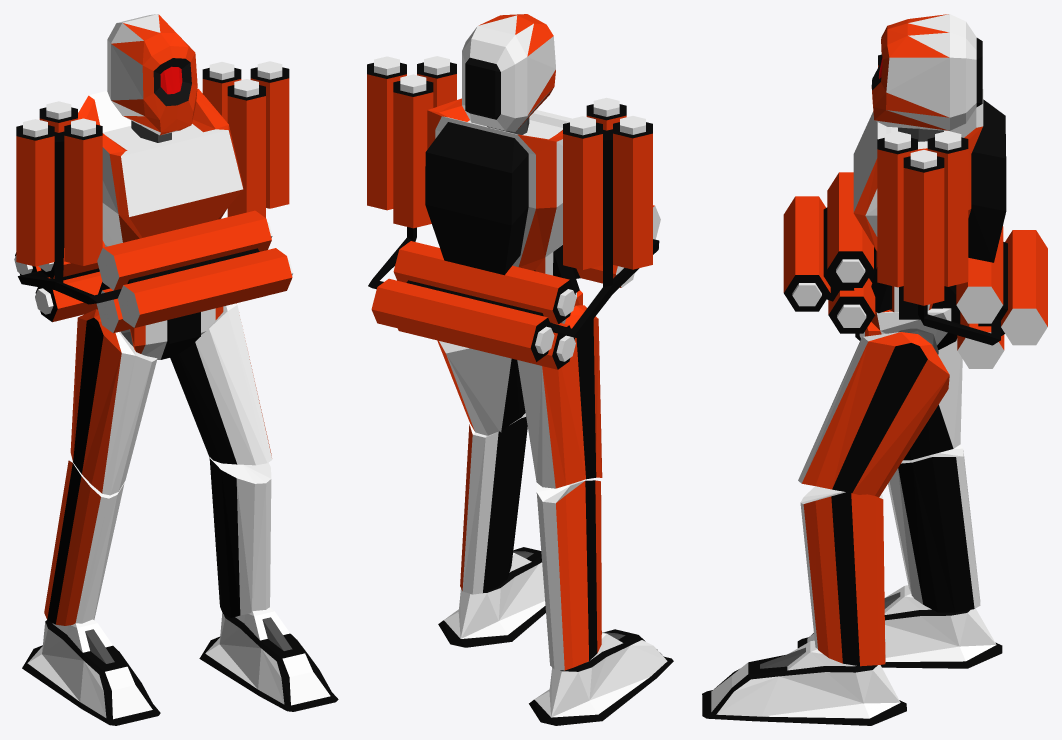
File: robots_000008.obj
3 renders of one model, left to right at view 1: azimuth 30°, elevation 25°; view 2: azimuth 150°, elevation 25°; view 3: azimuth 270°, elevation 25°, orthographic. The views are drawn at different scales.
Visible parts, largest first — view 1: Cylinder.004_Cylinder.006, Chest_plate_Cube.004, R_Thigh_Cube.005, R_Thigh.002_Cube.027, Head_base.002_Cube.030, R_Shin.002_Cube.029, R_Foot_Cube, R_Foot.002_Cube.035, R_Shin_Cube.007, Pelvis_Cube.006; view 2: Cylinder.004_Cylinder.006, Chest_plate_Cube.004, R_Shin_Cube.007, R_Thigh_Cube.005, Head_base.002_Cube.030, R_Shin.002_Cube.029, R_Foot_Cube, R_Foot.002_Cube.035, R_Thigh.002_Cube.027; view 3: Cylinder.004_Cylinder.006, R_Thigh.002_Cube.027, R_Shin.002_Cube.029, R_Foot.002_Cube.035, R_Shin_Cube.007, Head_base.002_Cube.030, Chest_plate_Cube.004, R_Foot_Cube, R_Thigh_Cube.005, Pelvis_Cube.006.
Part boxes in pixels (<box>): Cylinder.004_Cylinder.006: <box>14,61,293,333</box>; Chest_plate_Cube.004: <box>78,88,243,294</box>; R_Thigh_Cube.005: <box>70,309,157,495</box>; R_Thigh.002_Cube.027: <box>170,303,272,465</box>; Head_base.002_Cube.030: <box>107,14,197,135</box>; R_Shin.002_Cube.029: <box>209,457,271,617</box>; R_Foot_Cube: <box>22,619,160,725</box>; R_Foot.002_Cube.035: <box>199,607,338,711</box>; R_Shin_Cube.007: <box>44,460,124,625</box>; Pelvis_Cube.006: <box>130,306,223,359</box>; Cylinder.004_Cylinder.006: <box>367,56,660,369</box>; Chest_plate_Cube.004: <box>425,98,580,292</box>; R_Shin_Cube.007: <box>536,480,601,670</box>; R_Thigh_Cube.005: <box>517,305,602,488</box>; Head_base.002_Cube.030: <box>462,14,555,131</box>; R_Shin.002_Cube.029: <box>460,413,527,594</box>; R_Foot_Cube: <box>529,629,673,725</box>; R_Foot.002_Cube.035: <box>438,547,545,647</box>; R_Thigh.002_Cube.027: <box>437,340,525,435</box>; Cylinder.004_Cylinder.006: <box>783,54,1047,368</box>; R_Thigh.002_Cube.027: <box>798,332,949,497</box>; R_Shin.002_Cube.029: <box>800,486,885,666</box>; R_Foot.002_Cube.035: <box>702,640,906,725</box>; R_Shin_Cube.007: <box>888,445,980,612</box>; Head_base.002_Cube.030: <box>871,14,982,130</box>; Chest_plate_Cube.004: <box>853,89,1006,319</box>; R_Foot_Cube: <box>797,585,1002,668</box>; R_Thigh_Cube.005: <box>903,338,962,460</box>; Pelvis_Cube.006: <box>855,285,960,349</box>.
Size of the model in its own units: 1.38 by 3.04 by 1.43.
